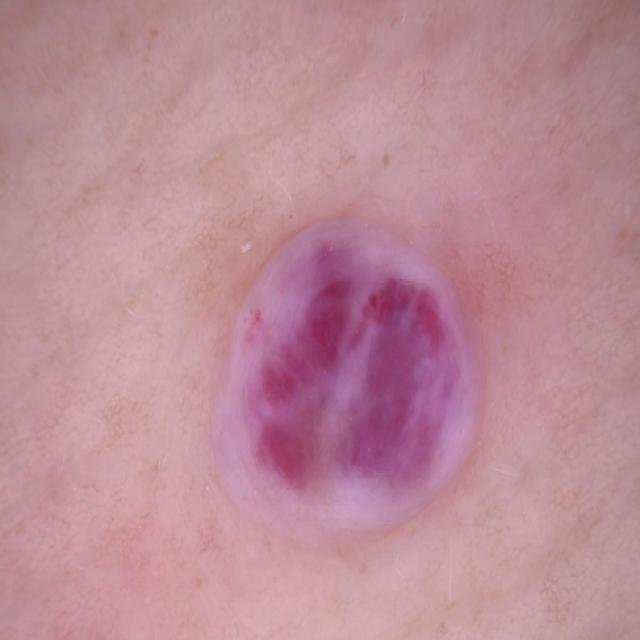Vascular Lesions: (195, 184, 490, 602)
